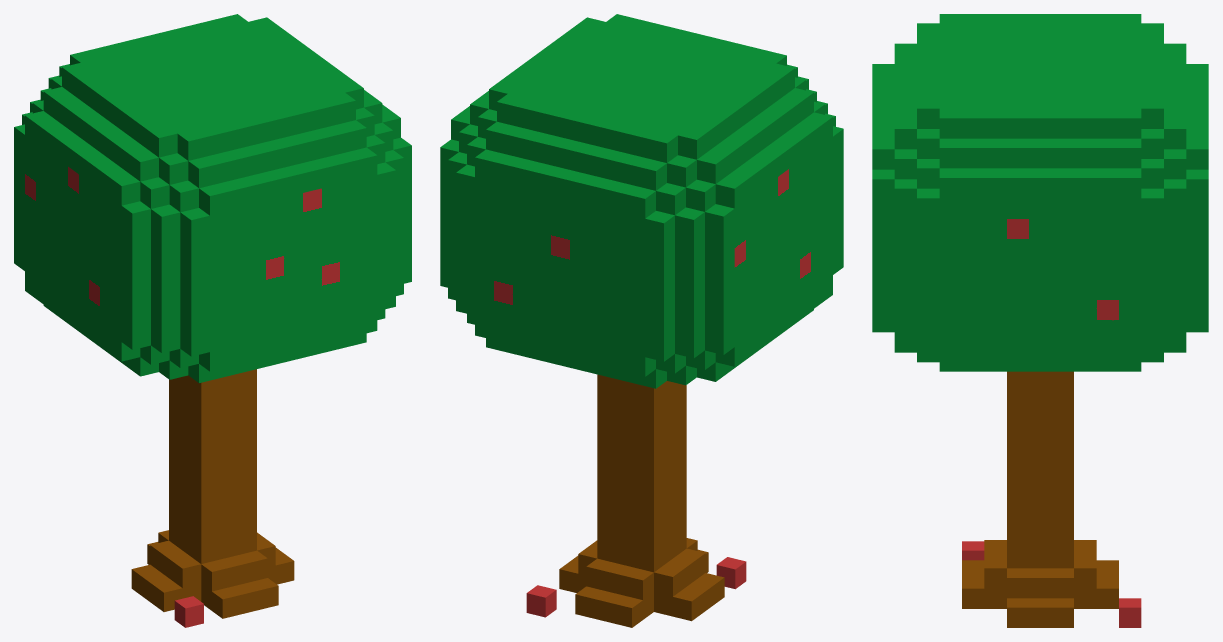
File: tree3-3.dae
3 renders of one model, left to right at view 1: azimuth 30°, elevation 25°; view 2: azimuth 150°, elevation 25°; view 3: azimuth 270°, elevation 25°, orthographic. The views are drawn at different scales.
Parts seen in each view (by area): view 1: tree3-3; view 2: tree3-3; view 3: tree3-3.
Part boxes in pixels (x1,y1,x2,y2): tree3-3: [14, 14, 411, 627]; tree3-3: [440, 14, 843, 627]; tree3-3: [872, 14, 1208, 627].
Size of the model in its own units: 1.5 by 1.5 by 2.6.
Materials: 1 (1 with a texture image).
